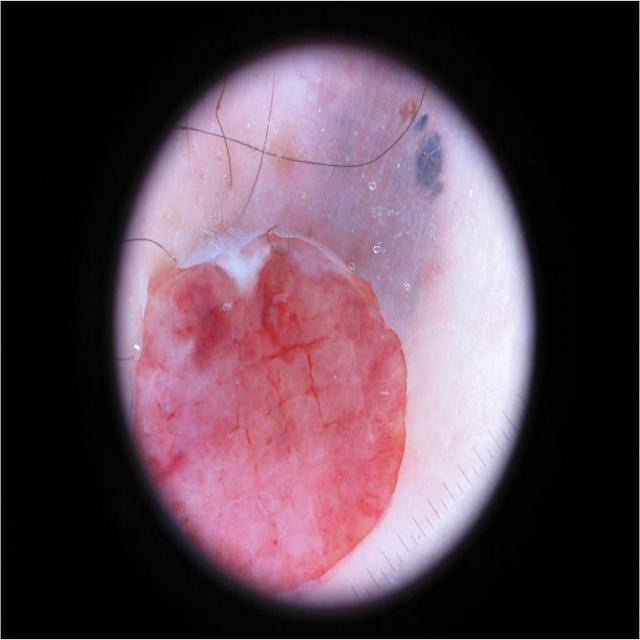Melanoma: (112, 42, 439, 600)
